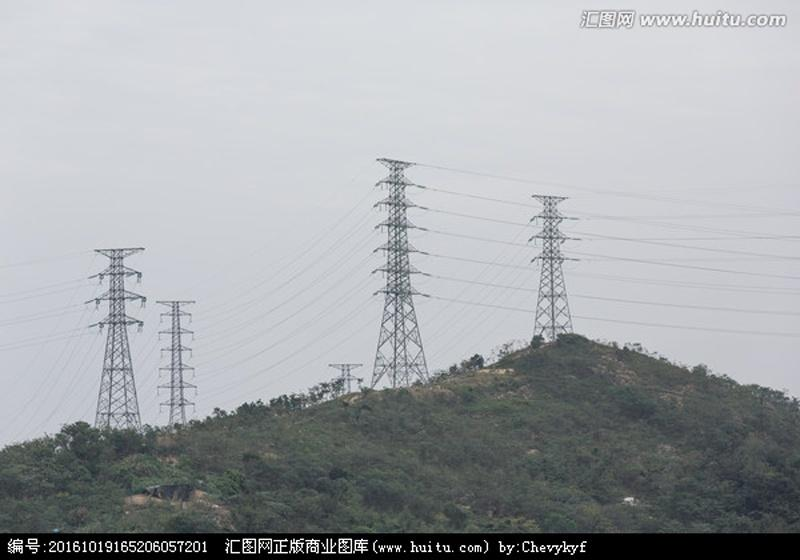power_tower: (361, 155, 433, 386), (76, 238, 148, 430), (521, 183, 582, 345), (149, 293, 204, 422)
